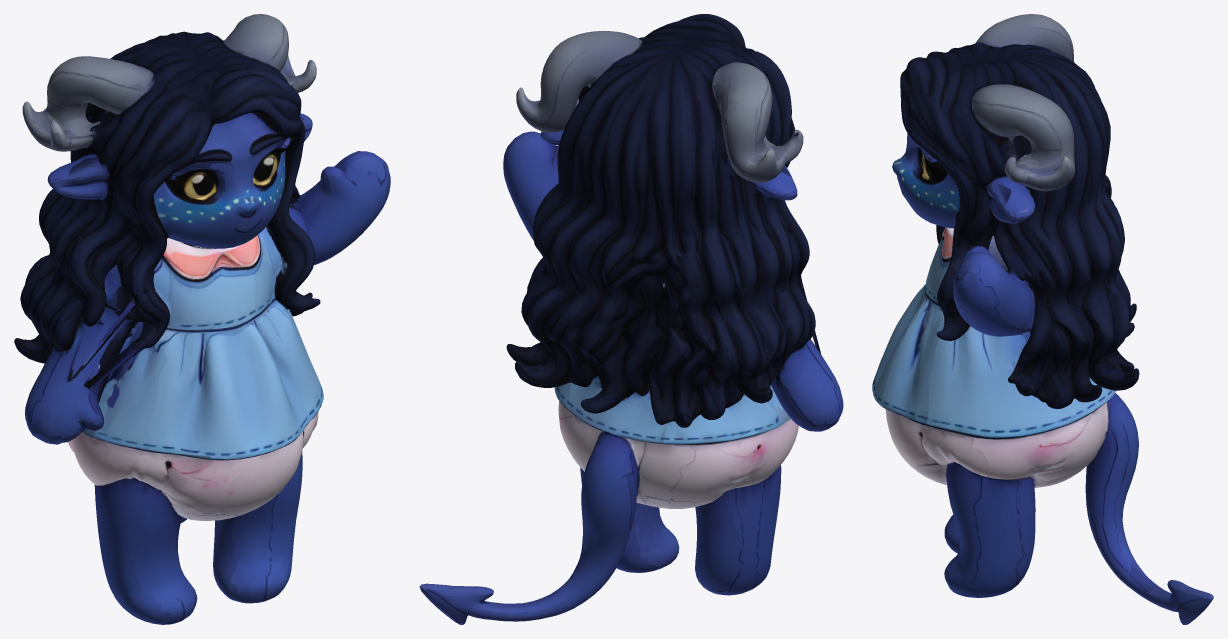
Rendered from freyadoll.glb.
3 views of the same model, side by side, from view 1: azimuth 30°, elevation 25°; view 2: azimuth 150°, elevation 25°; view 3: azimuth 270°, elevation 25° (orthographic). The views are drawn at different scales.
Parts seen in each view (by area): view 1: temp_mesh.ply; view 2: temp_mesh.ply; view 3: temp_mesh.ply.
Part boxes in pixels (bbox=[...]): temp_mesh.ply: bbox=[14, 14, 390, 624]; temp_mesh.ply: bbox=[419, 14, 843, 624]; temp_mesh.ply: bbox=[872, 14, 1213, 624].
Size of the model in its own units: 1.31 by 1.97 by 1.18.
1 material, 1 textured.
